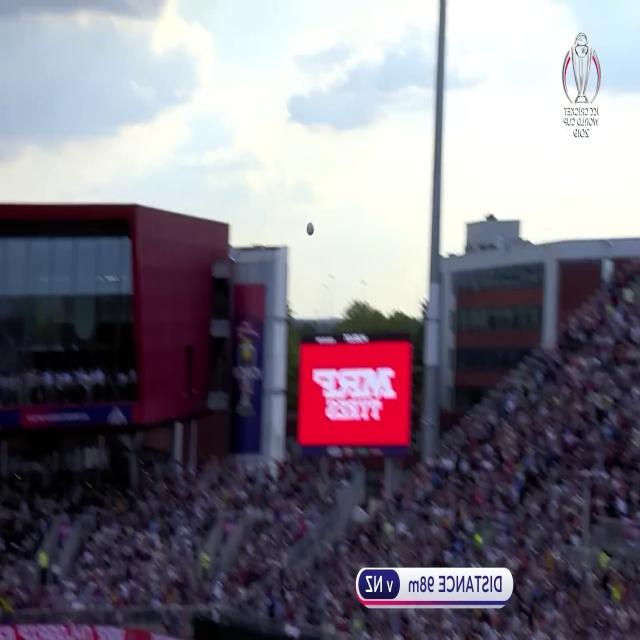ball: (305, 220, 316, 238)
